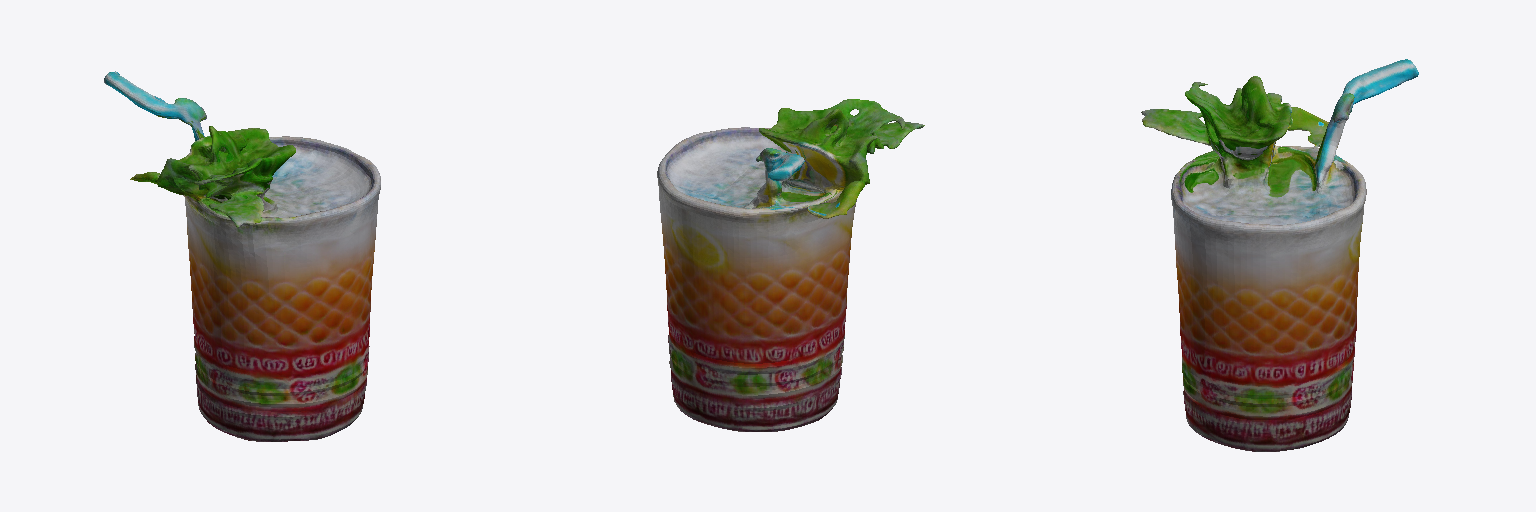
3 views of the same model, side by side, from view 1: azimuth 30°, elevation 25°; view 2: azimuth 150°, elevation 25°; view 3: azimuth 270°, elevation 25° (orthographic).
Parts seen in each view (by area): view 1: mesh; view 2: mesh; view 3: mesh.
Boxes of the visible parts, box(x1,y1,x2,y2) form: mesh: box(104, 71, 380, 441); mesh: box(657, 99, 924, 431); mesh: box(1141, 59, 1418, 451).
Size of the model in its own units: 0.6918 by 0.9993 by 0.802.
Materials: 1 (1 with a texture image).